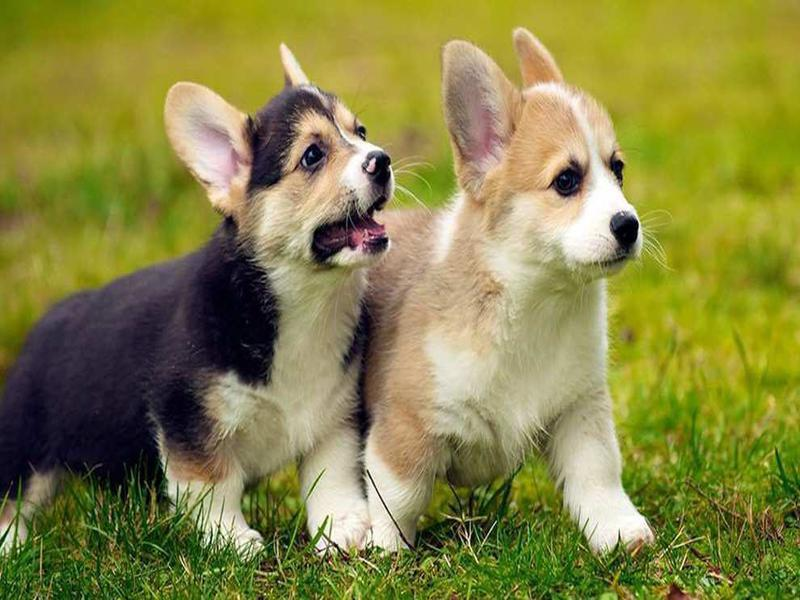corgi: (439, 26, 653, 281)
